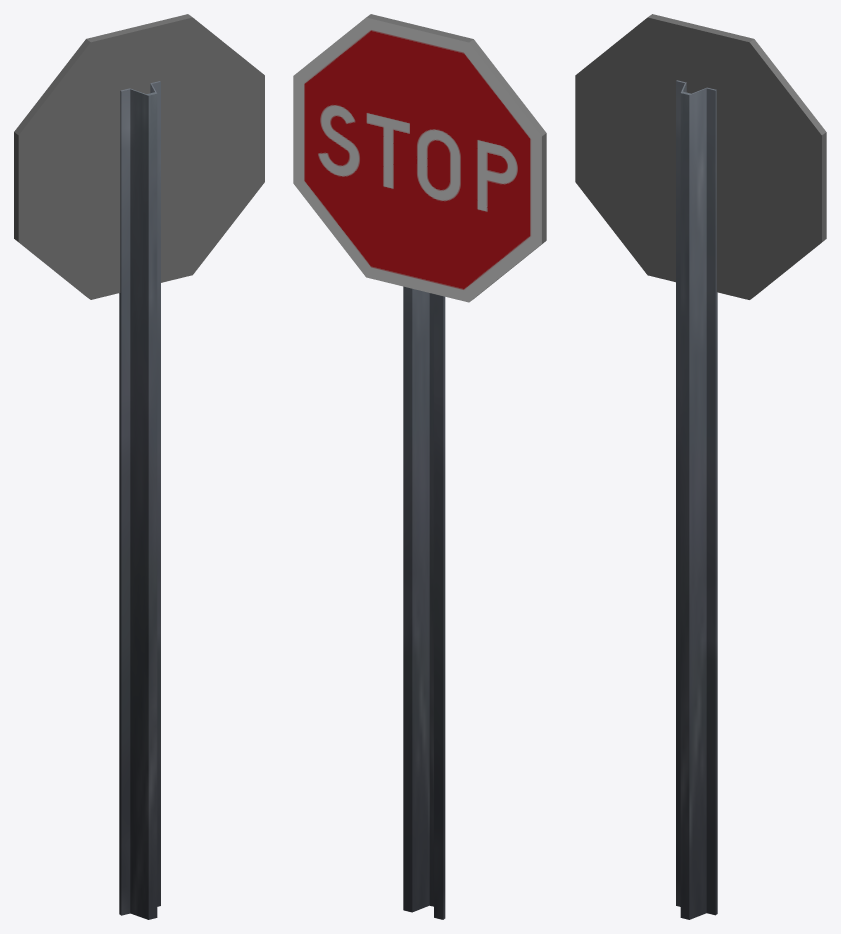
The model's file is stopsign.obj.
The picture shows the model from 3 angles, left to right: view 1: azimuth 30°, elevation 25°; view 2: azimuth 150°, elevation 25°; view 3: azimuth 330°, elevation 25°; orthographic projection.
Visible parts, largest first — view 1: Mesh; view 2: Mesh; view 3: Mesh.
Part boxes in pixels (<box>): Mesh: <box>14,14,264,919</box>; Mesh: <box>293,14,546,919</box>; Mesh: <box>575,14,826,919</box>.
Size of the model in its own units: 0.1403 by 0.4787 by 0.0168.
